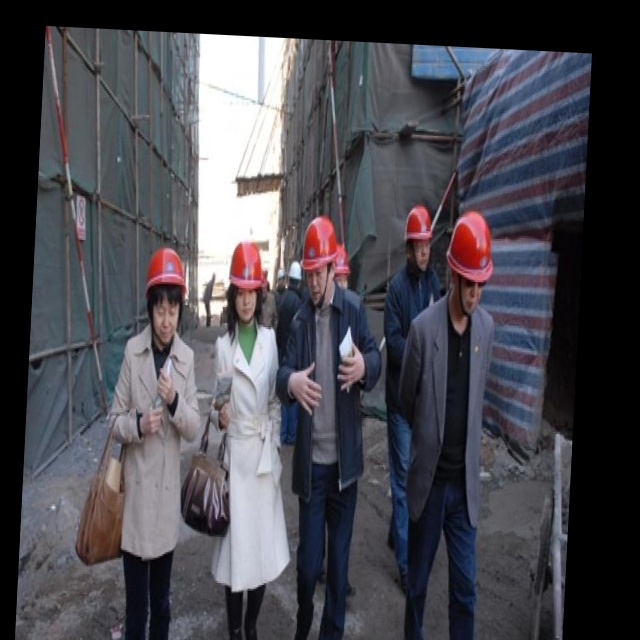Con_Casco: (444, 210, 497, 313), (141, 246, 189, 343)
